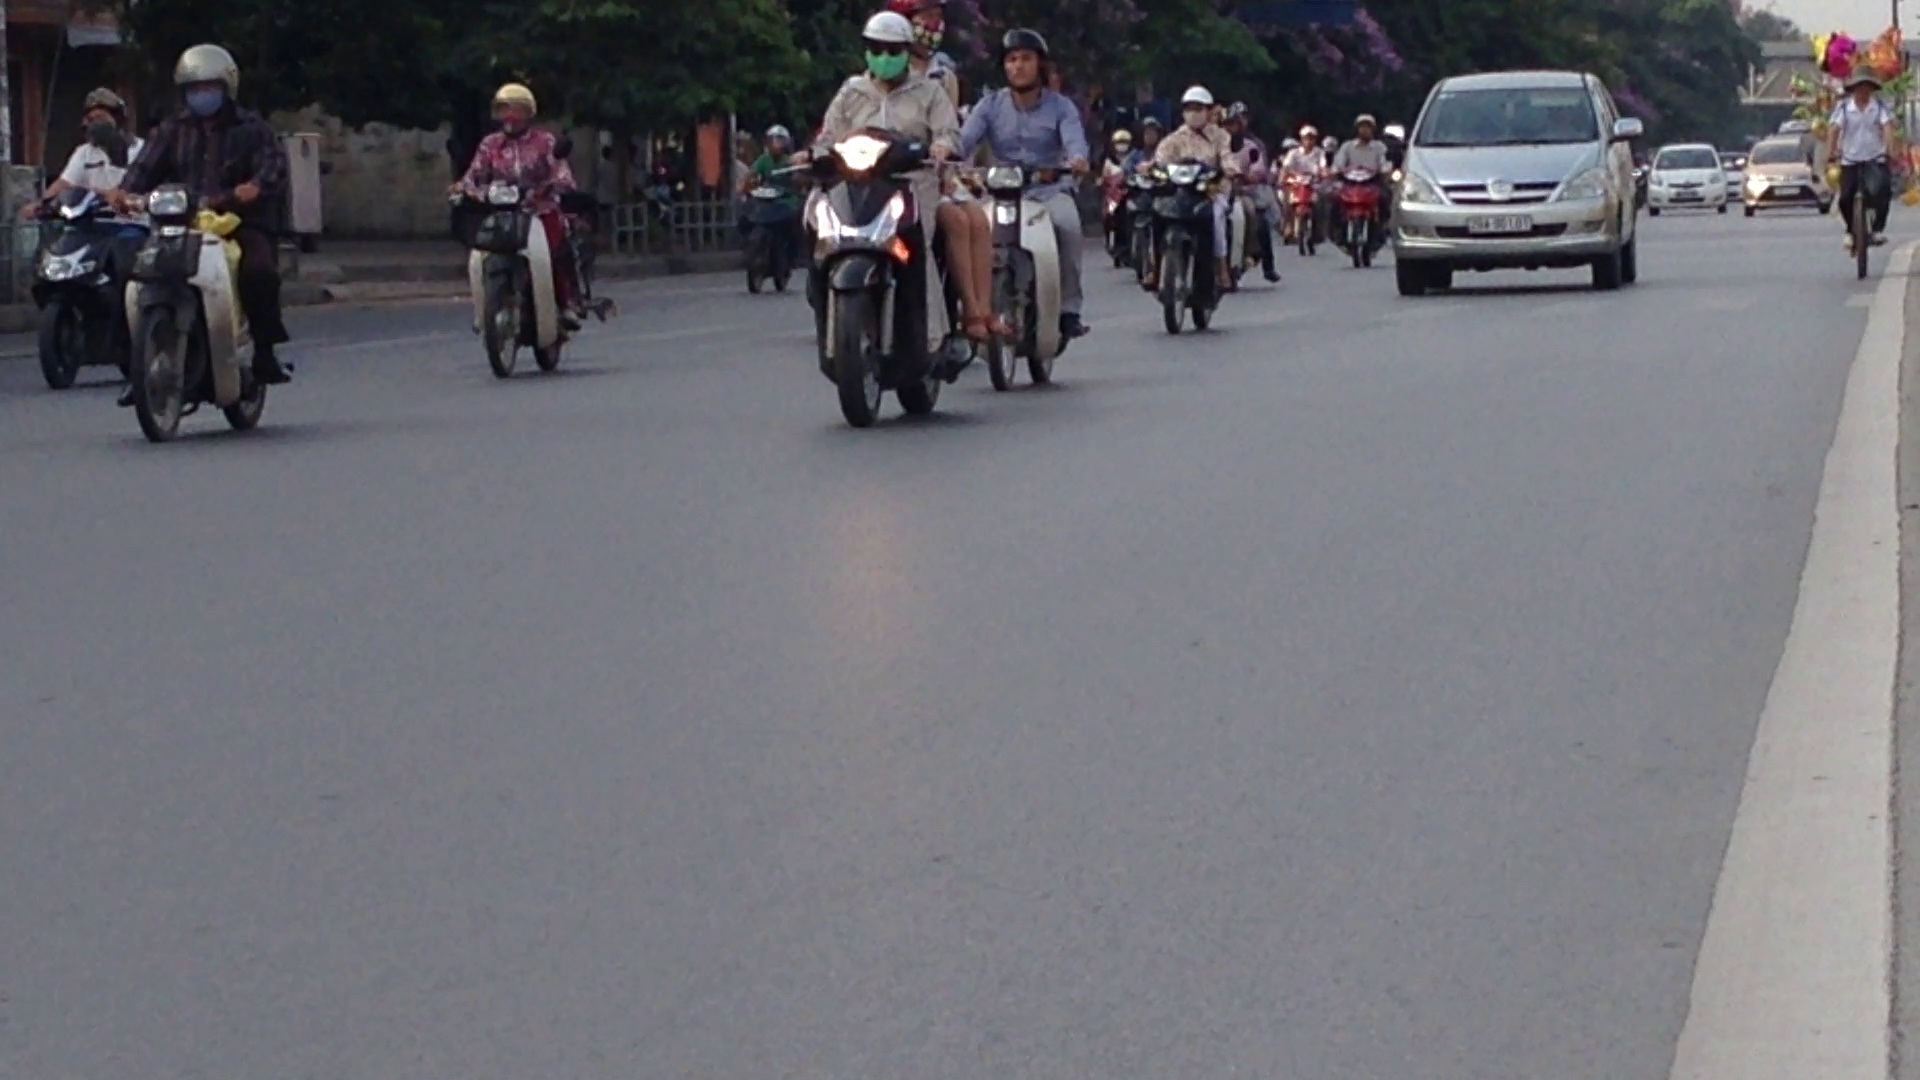person: (1461, 210, 1531, 234)
